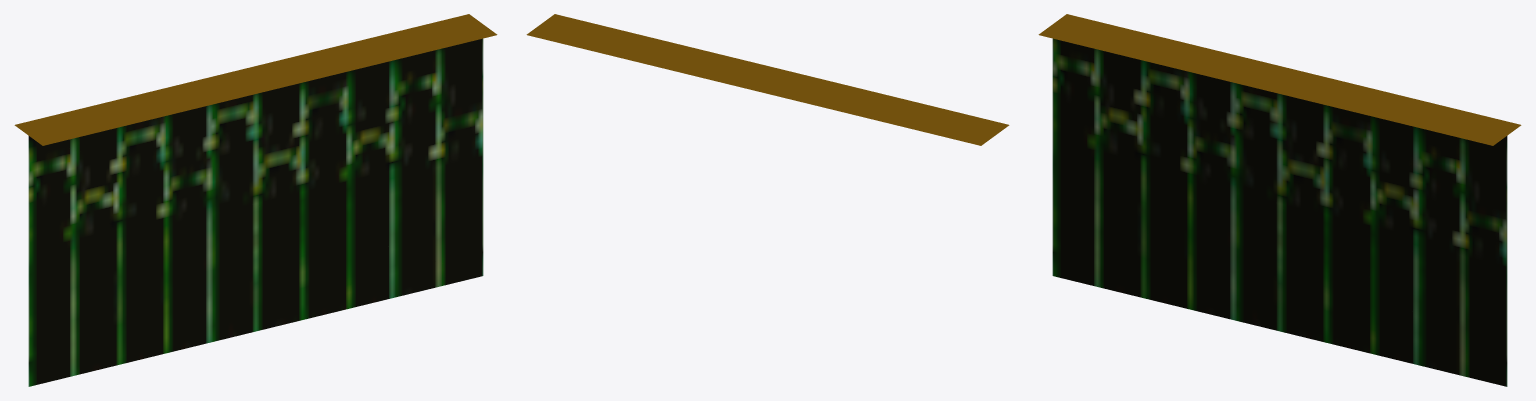
The model's file is Geländer1_Hoch_1872.glb.
3 views of the same model, side by side, from view 1: azimuth 30°, elevation 25°; view 2: azimuth 150°, elevation 25°; view 3: azimuth 330°, elevation 25° (orthographic).
Visible parts, largest first — view 1: pPlaneShape229, pPlaneShape230; view 2: pPlaneShape230; view 3: pPlaneShape229, pPlaneShape230.
Part boxes in pixels (x1=…): pPlaneShape229: x1=28, y1=38, x2=483, y2=386; pPlaneShape230: x1=14, y1=14, x2=497, y2=145; pPlaneShape230: x1=526, y1=14, x2=1009, y2=145; pPlaneShape229: x1=1052, y1=38, x2=1507, y2=386; pPlaneShape230: x1=1038, y1=14, x2=1521, y2=145.
Bounding box in the file's own units: 0.2229 × 0.1177 × 0.0243.
Materials: 2 (1 with a texture image).
